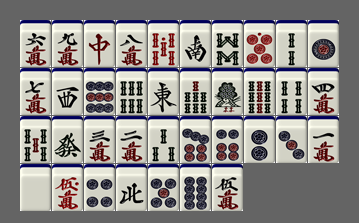0m: (52, 164, 83, 211)
0p: (244, 20, 275, 67)
0s: (148, 20, 179, 67)
1m: (308, 116, 339, 163)
1p: (308, 20, 339, 67)
1s: (212, 68, 243, 115)
1z: (148, 68, 179, 115)
2m: (116, 116, 147, 163)
2p: (244, 116, 275, 163)
2s: (276, 20, 307, 67)
2z: (180, 20, 211, 67)
3m: (84, 116, 115, 163)
3p: (276, 116, 307, 163)
3s: (148, 116, 179, 163)
3z: (52, 68, 83, 115)
4m: (308, 68, 339, 115)
4p: (84, 164, 115, 211)
4s: (276, 68, 307, 115)
4z: (116, 164, 147, 211)
5m: (212, 164, 243, 211)
5p: (148, 164, 179, 211)
5s: (20, 116, 51, 163)
5z: (20, 164, 51, 211)
6m: (20, 20, 51, 67)
6p: (212, 116, 243, 163)
6s: (116, 68, 147, 115)
6z: (52, 116, 83, 163)
7m: (20, 68, 51, 115)
7p: (180, 116, 211, 163)
7s: (180, 68, 211, 115)
7z: (84, 20, 115, 67)
8m: (116, 20, 147, 67)
8p: (180, 164, 211, 211)
8s: (212, 20, 243, 67)
9m: (52, 20, 83, 67)
9p: (84, 68, 115, 115)
9s: (244, 68, 275, 115)
